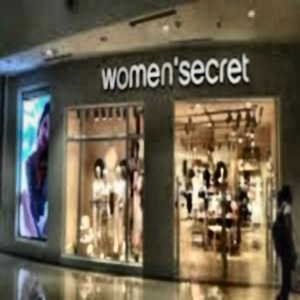women_secret: (203, 28, 300, 84)
